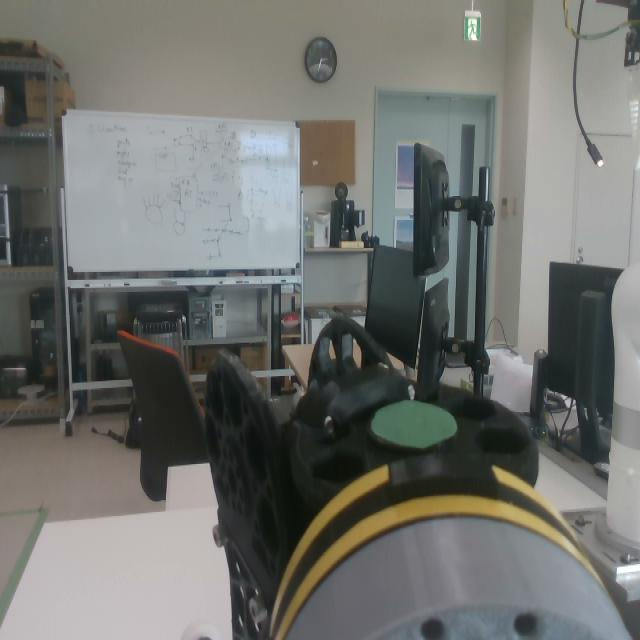body_connector: (284, 517, 633, 640)
connection: (268, 453, 625, 640)
leg: (205, 317, 602, 640)
leg_connector: (265, 456, 594, 640)
marker: (370, 400, 458, 448)
